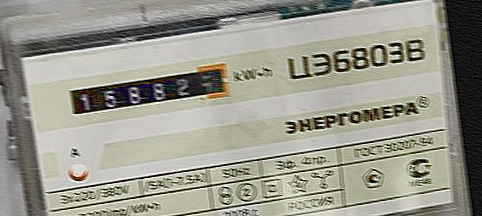1: (76, 93, 90, 113)
2: (174, 78, 188, 99)
5: (101, 90, 115, 111)
7: (199, 82, 212, 98)
8: (125, 86, 140, 108), (150, 83, 165, 105)
screen: (59, 58, 238, 126)
